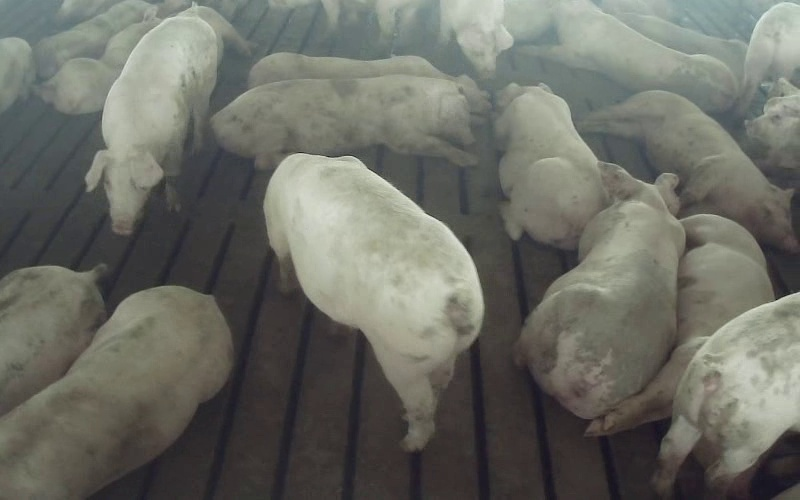pig: (0, 286, 231, 499), (515, 164, 684, 417), (579, 91, 797, 251), (85, 10, 220, 234), (653, 293, 799, 495), (211, 74, 476, 169), (526, 0, 737, 111), (495, 83, 607, 248), (0, 264, 106, 415), (248, 52, 489, 114), (36, 7, 160, 114), (34, 0, 155, 78)
